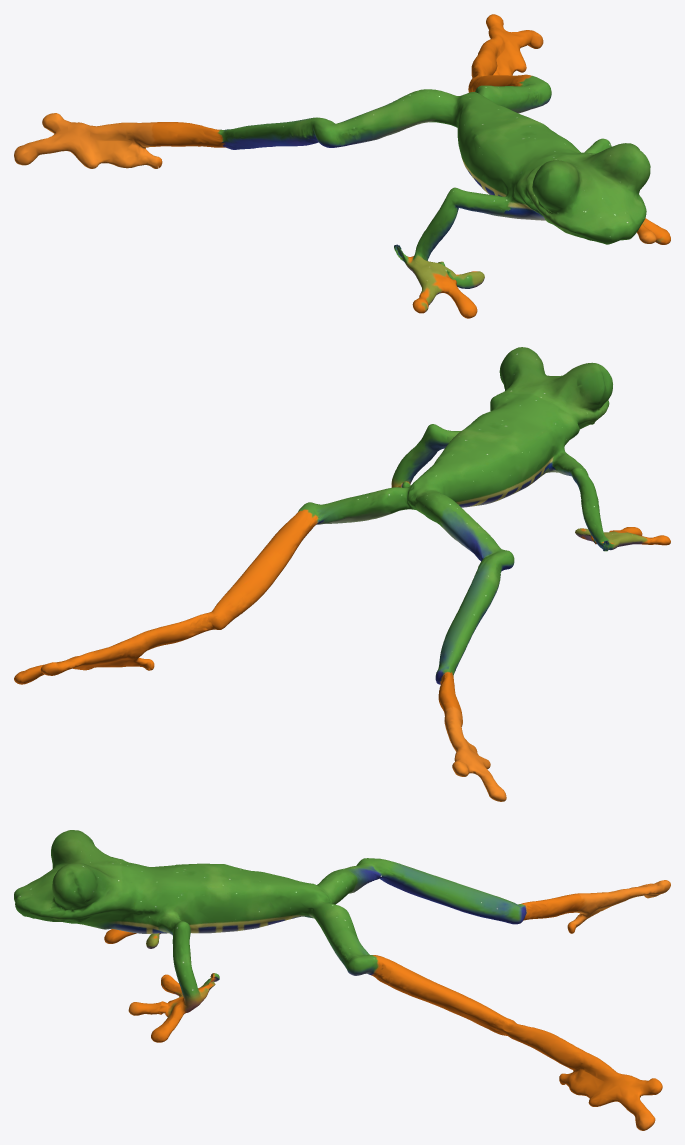
Rendered from redeye.swim.glb.
3 renders of one model, top to bottom at view 1: azimuth 30°, elevation 25°; view 2: azimuth 150°, elevation 25°; view 3: azimuth 270°, elevation 25°, orthographic. The views are drawn at different scales.
Parts seen in each view (by area): view 1: redeye.swim; view 2: redeye.swim; view 3: redeye.swim.
Boxes of the visible parts, x1,y1,x2,y2 form: redeye.swim: (14, 14, 670, 318); redeye.swim: (14, 347, 670, 801); redeye.swim: (14, 830, 670, 1130).
Bounding box in the file's own units: 0.0951 × 0.0316 × 0.1124.
Materials: 1 (1 with a texture image).
